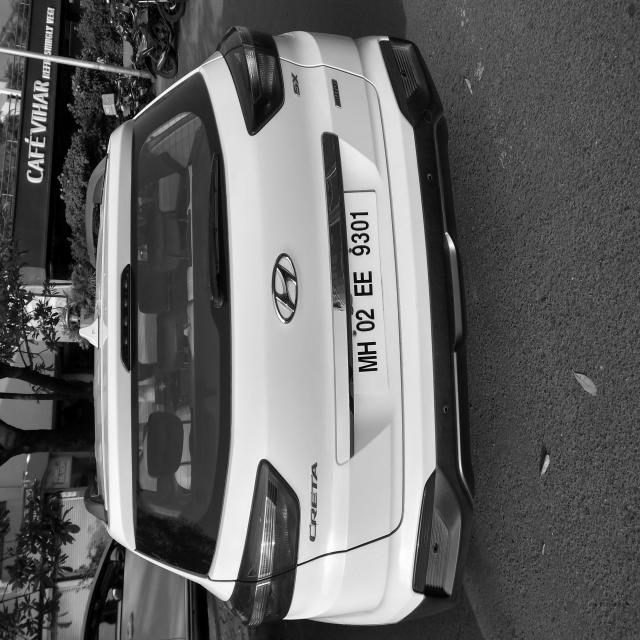car: (3, 119, 468, 634)
license-plate: (186, 468, 329, 517)
